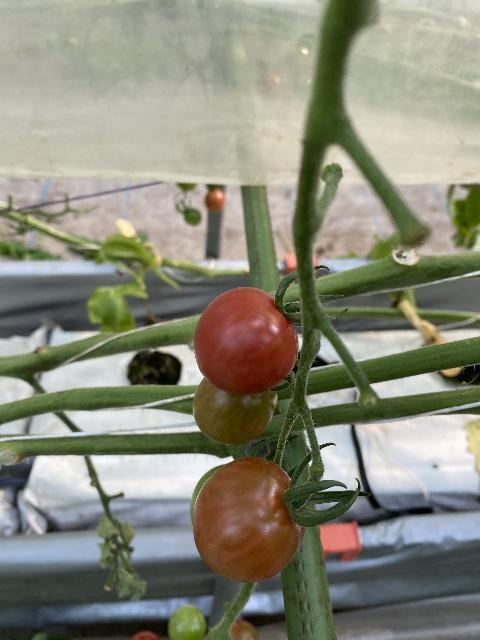l_fully_ripened: (193, 286, 300, 395)
l_half_ripened: (192, 455, 305, 583), (192, 378, 277, 445)
